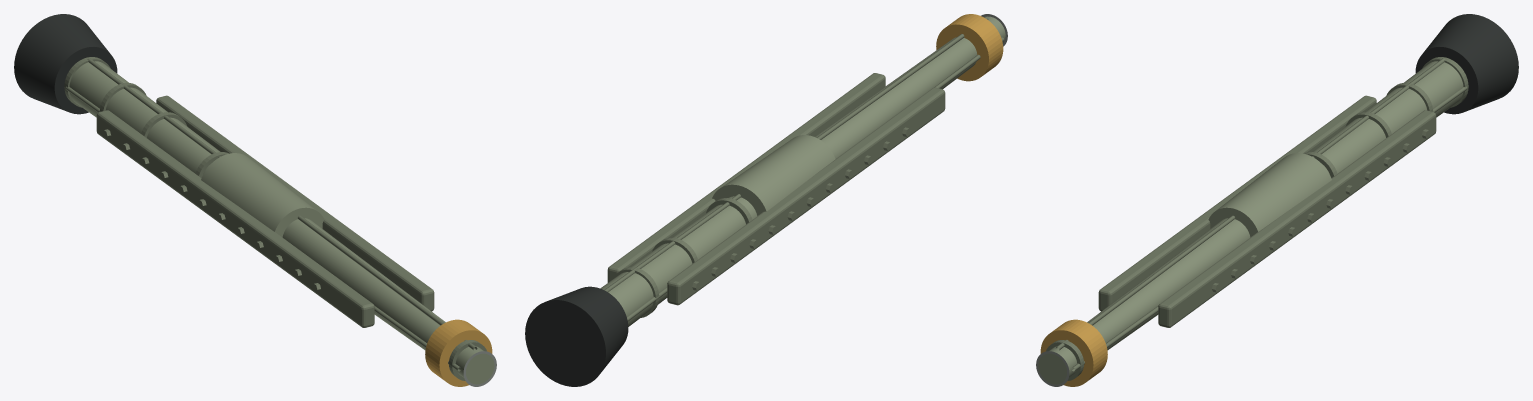
The model's file is barrel_1.glb.
The picture shows the model from 3 angles, left to right: view 1: azimuth 30°, elevation 25°; view 2: azimuth 150°, elevation 25°; view 3: azimuth 330°, elevation 25°; orthographic projection.
Visible parts, largest first — view 1: barrel_1; view 2: barrel_1; view 3: barrel_1.
Boxes of the visible parts, x1,y1,x2,y2 form: barrel_1: (14, 14, 496, 386); barrel_1: (525, 14, 1007, 386); barrel_1: (1036, 14, 1518, 386).
Size of the model in its own units: 0.496 by 0.49 by 4.46.
